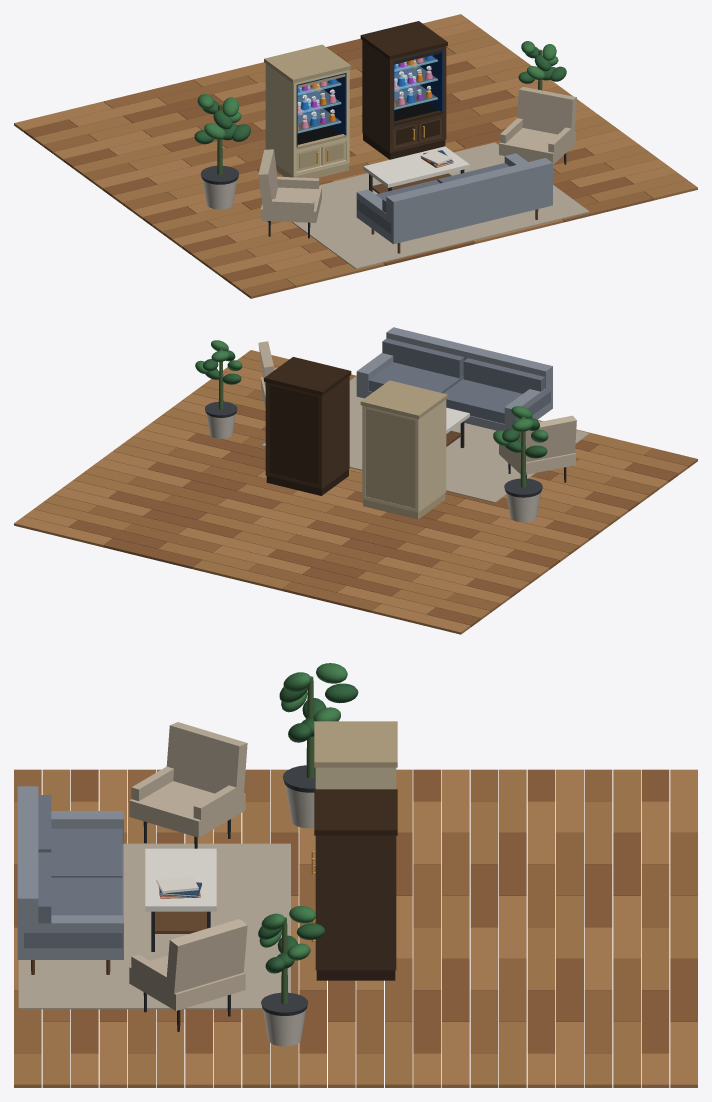
The model's file is cabinet.glb.
3 views of the same model, one above another, from view 1: azimuth 30°, elevation 25°; view 2: azimuth 150°, elevation 25°; view 3: azimuth 270°, elevation 25° (orthographic). The views are drawn at different scales.
Visible parts, largest first — view 1: area_rug, sofa_back, panel_left (×2), cap (×2), chair_back (×2), chair_seat (×2), table_top, niche_right (×2), plant_tall_left, sofa_base, plant_tall_right, niche_floor (×2) (+72 smaller); view 2: panel_back (×2), panel_left (×2), area_rug, cap (×2), sofa_back, sofa_seat_right, sofa_back_cushion_left, sofa_back_cushion_right, sofa_seat_left, chair_back, plant_tall_left, plinth (×2) (+89 smaller); view 3: area_rug, panel_right (×2), chair_back (×2), cap (×2), chair_seat (×2), sofa_seat_left, table_top, sofa_seat_right, plant_tall_left, sofa_back, sofa_arm_left, plant_tall_right (+102 smaller).
Part boxes in pixels (x1,y1,x2,y2): area_rug: (292, 142, 589, 269); sofa_back: (386, 158, 552, 235); panel_left (×2): (265, 40, 393, 174); cap (×2): (264, 21, 447, 83); chair_back (×2): (258, 87, 576, 211); chair_seat (×2): (261, 128, 575, 222); table_top: (363, 146, 469, 187); niche_right (×2): (320, 49, 442, 135); plant_tall_left: (194, 94, 250, 144); sofa_base: (356, 197, 552, 244); plant_tall_right: (518, 41, 566, 83); niche_floor (×2): (297, 95, 437, 144); panel_back (×2): (269, 385, 415, 508); panel_left (×2): (318, 376, 446, 512); area_rug: (261, 376, 589, 502); cap (×2): (264, 357, 447, 419); sofa_back: (386, 327, 552, 400); sofa_seat_right: (443, 379, 550, 423); sofa_back_cushion_left: (382, 338, 463, 378); sofa_back_cushion_right: (463, 358, 545, 393); sofa_seat_left: (368, 362, 463, 393); chair_back: (518, 415, 576, 465); plant_tall_left: (493, 406, 548, 458); plinth (×2): (266, 469, 445, 519); area_rug: (18, 843, 290, 1009); panel_right (×2): (315, 770, 396, 970); chair_back (×2): (166, 722, 247, 995); cap (×2): (314, 721, 397, 835); chair_seat (×2): (129, 781, 245, 1010); sofa_seat_left: (24, 877, 122, 948); table_top: (145, 848, 216, 911); sofa_seat_right: (51, 828, 122, 877); plant_tall_left: (279, 663, 358, 742); sofa_back: (17, 786, 38, 945); sofa_arm_left: (17, 915, 123, 953); plant_tall_right: (258, 906, 325, 973).
Bounding box in the file's own units: 5.74 × 1.33 × 5.27.
